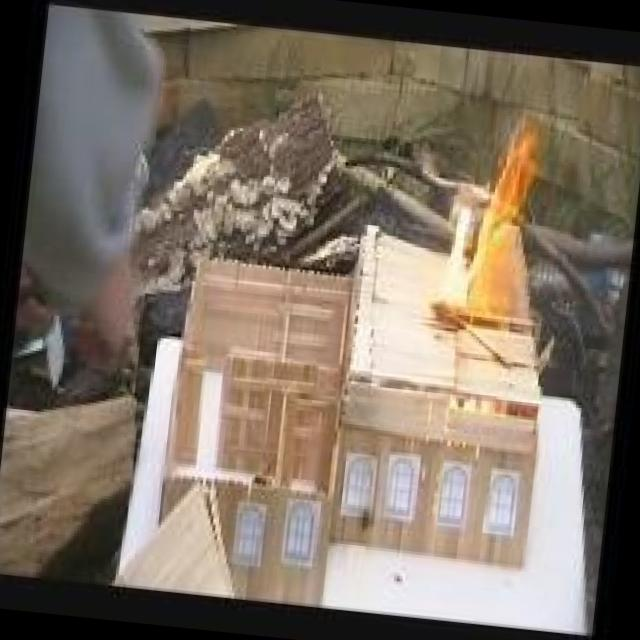fire: (430, 140, 560, 328)
